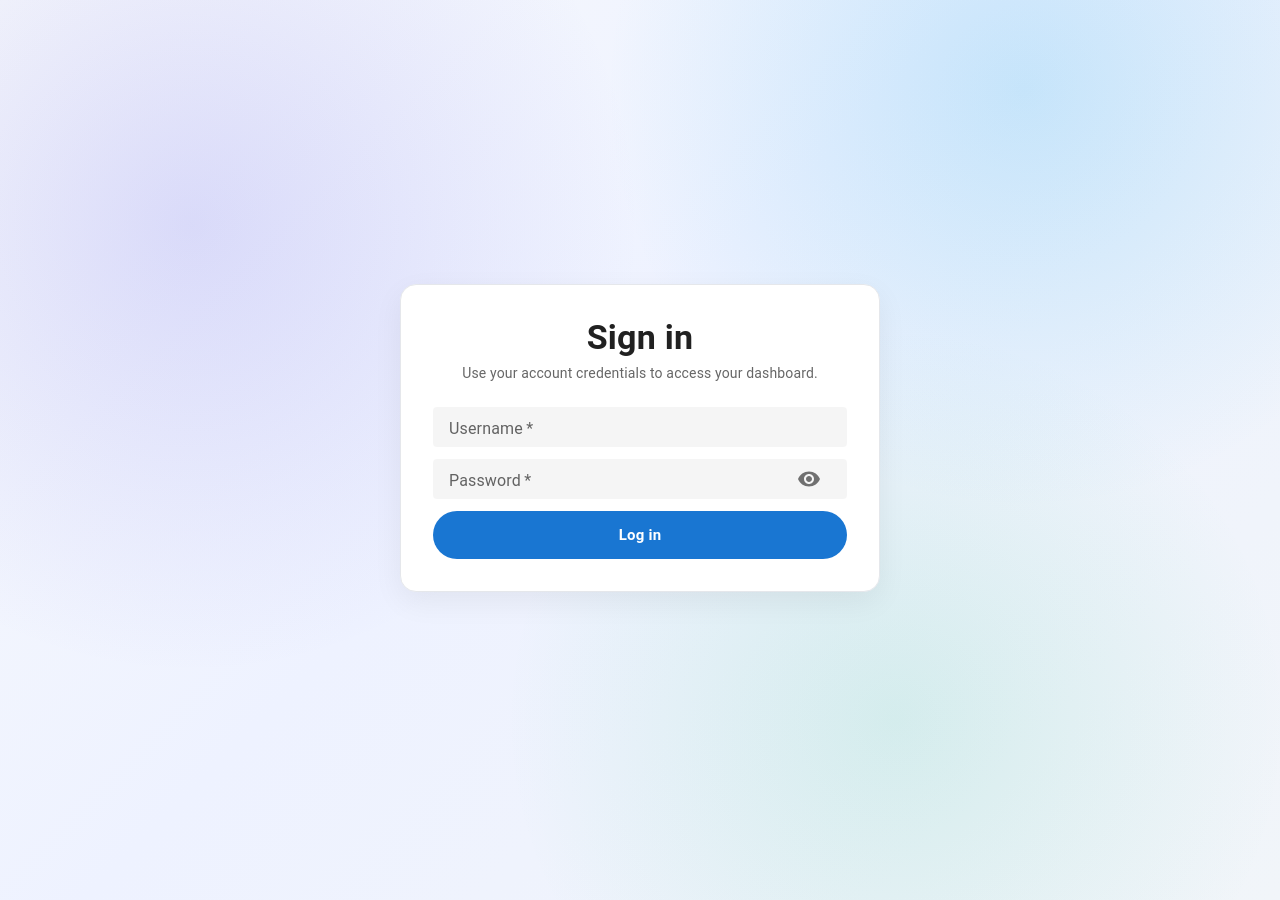
Test: Login component › toggles password visibility when clicking the icon
This screenshot has width=1280, height=900.
Click the button named "show password".
click(809, 480)  # box [789,460,829,500]
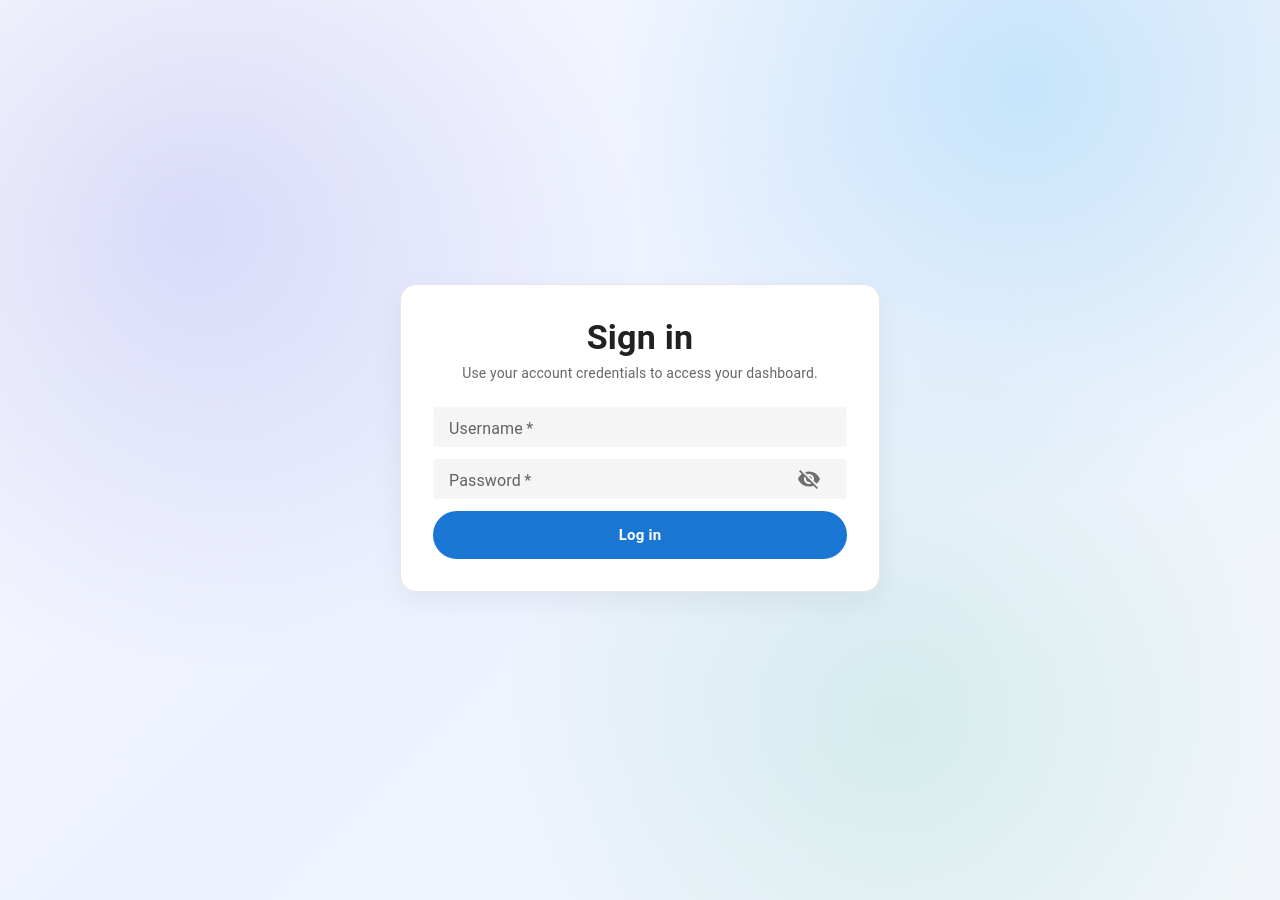
Expected: the button named "hide password" is shown, [789,460,829,500]
